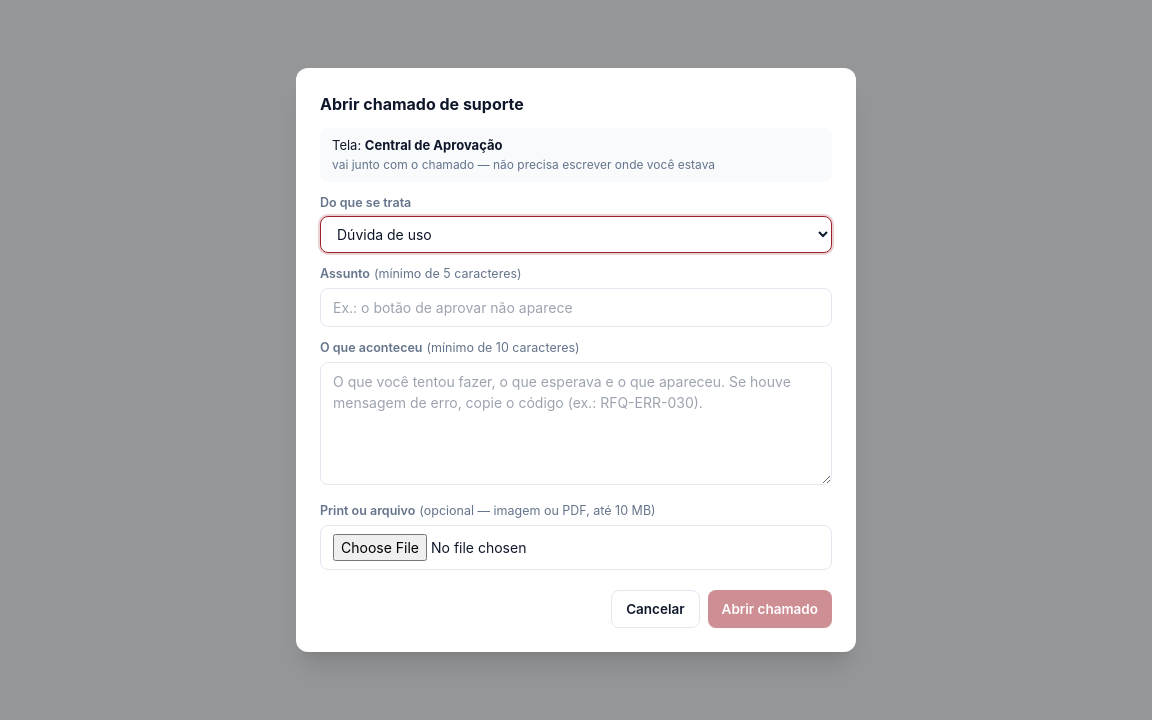
Test: <DialogoDeSuporte /> › só libera o envio com as mesmas réguas do servidor
Expected: the button "Abrir chamado" is disabled, [708,590,832,628]
Type "Ajud" into the field labelled "Assunto(mínimo de 5 caracteres)" at (576, 308), box [320,288,832,327]
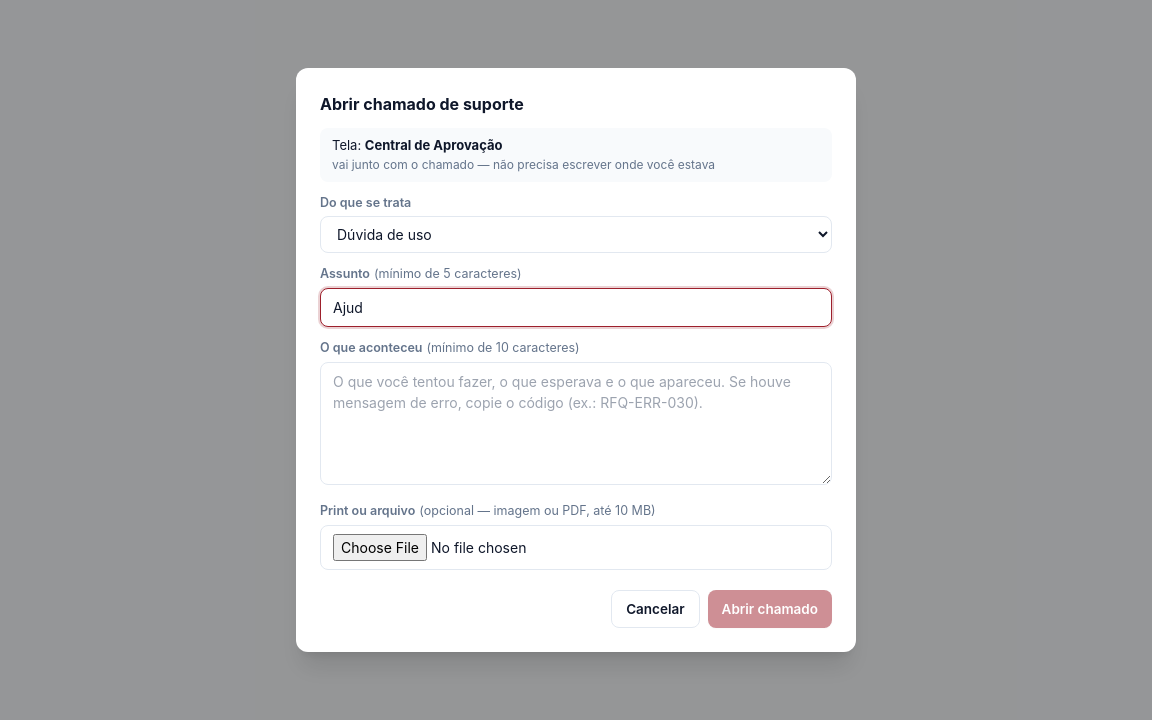
Type "Não aparece o botão." into the text box labelled "O que aconteceu(mínimo de 10 caracteres)" at (576, 423), box [320,362,832,485]
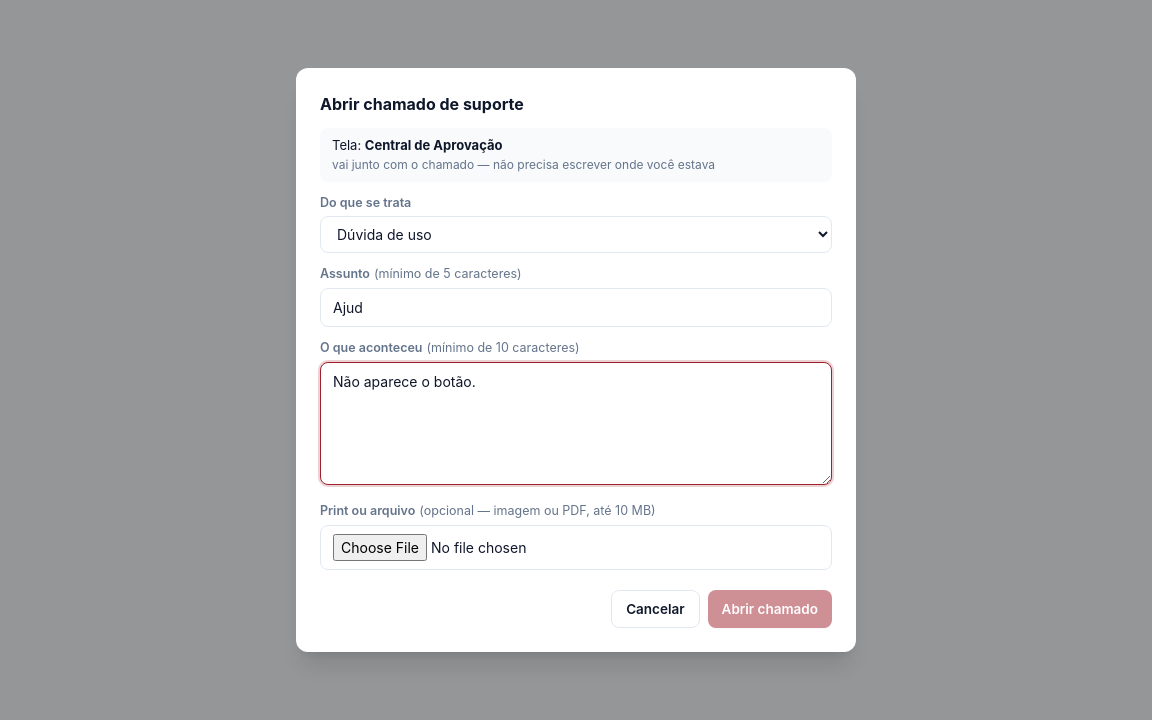
Expected: the button "Abrir chamado" is disabled, [708,590,832,628]
Type "a" into the field labelled "Assunto(mínimo de 5 caracteres)" at (576, 308), box [320,288,832,327]
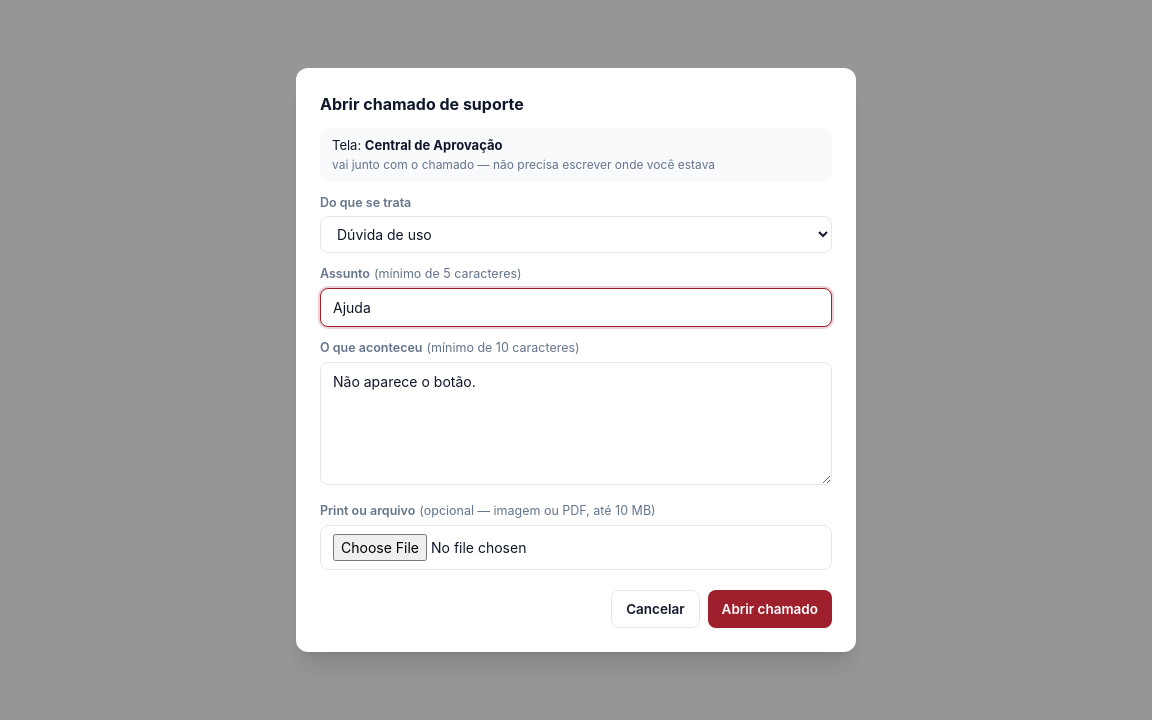
Expected: the button "Abrir chamado" is enabled, [708,590,832,628]
